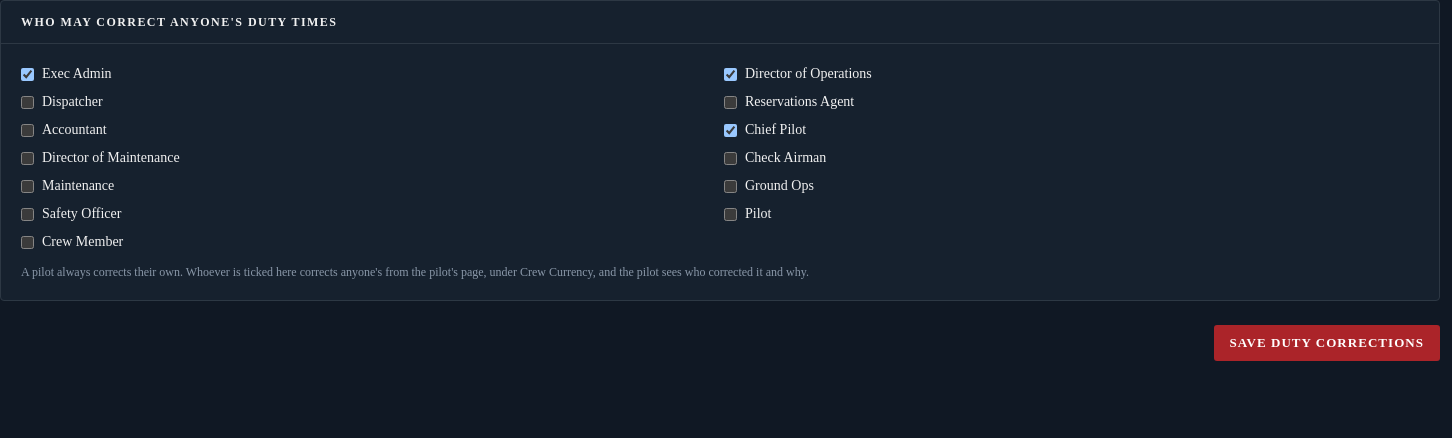
Test: DutySettingsForm › saves the roles ticked, in the catalogue's order
The image size is (1452, 438).
Click the checkbox labelled "Exec Admin".
click(28, 74)  # box [21,68,34,80]
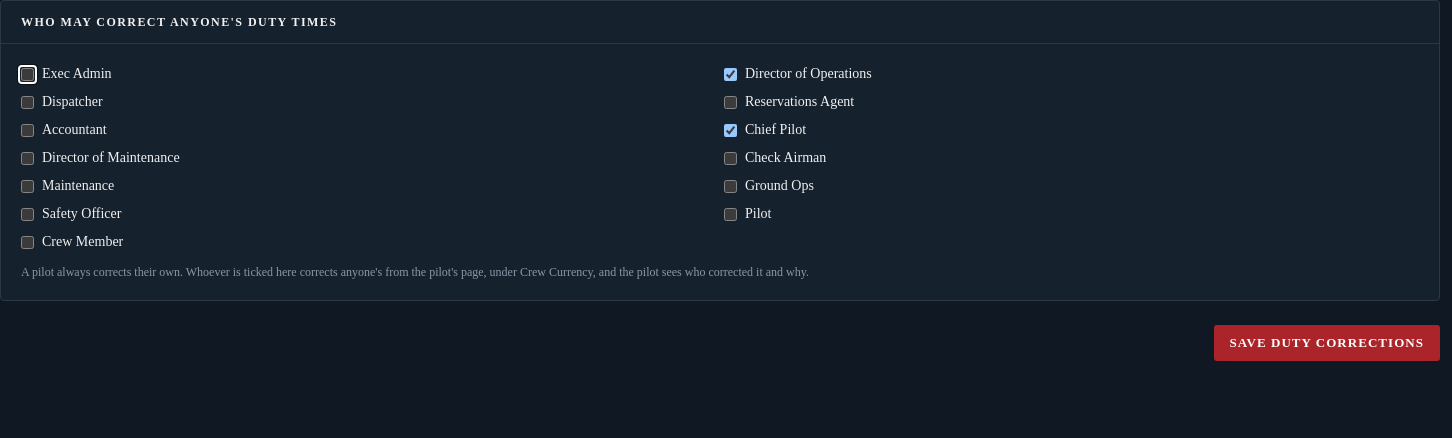
Click the checkbox labelled "Dispatcher".
click(28, 102)  # box [21,96,34,108]
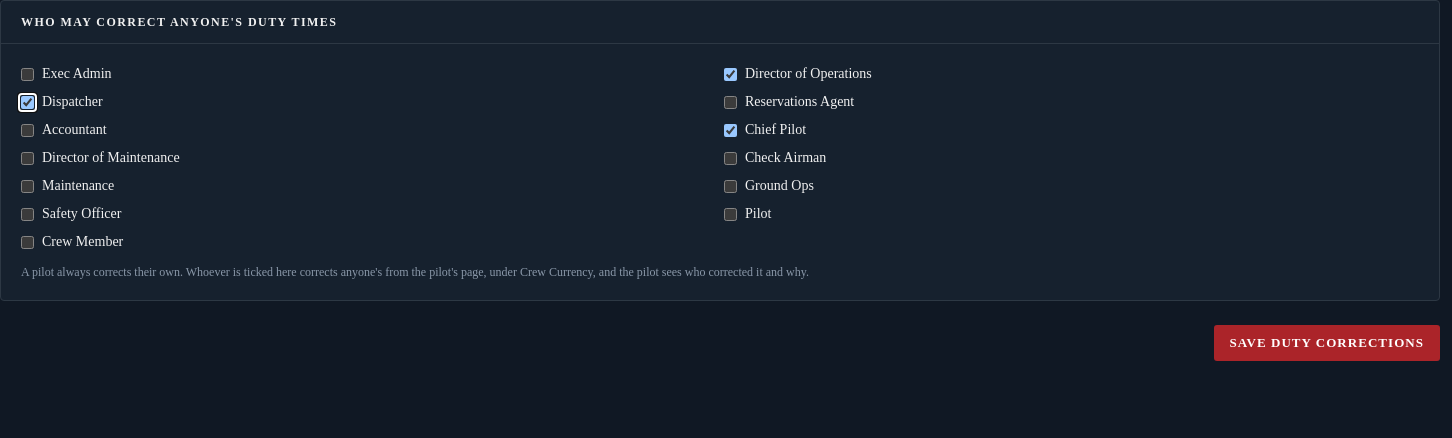
Click the button "Save Duty Corrections".
click(1327, 343)  # box [1214,325,1440,360]
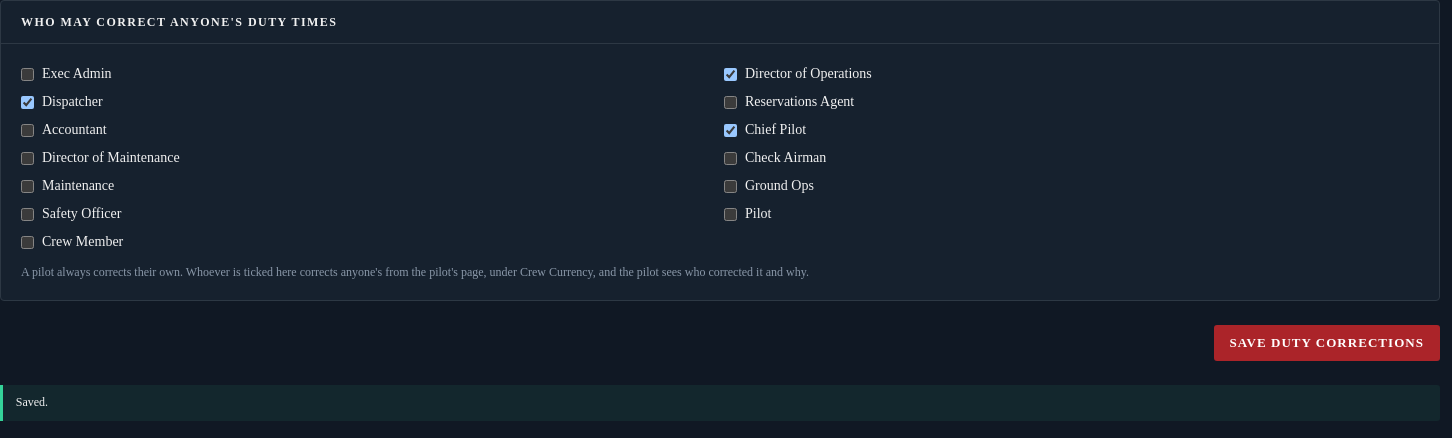
Expected: the message reads "Saved.", [16,395,48,409]
